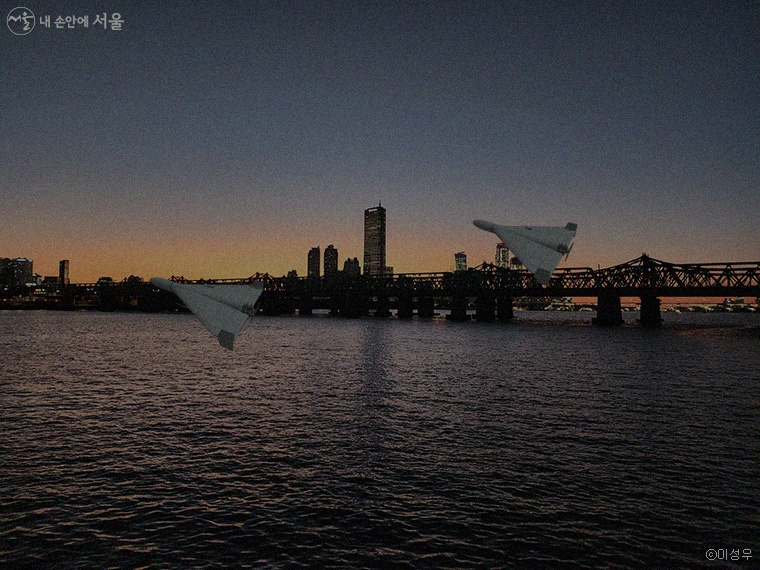shahed: (147, 274, 267, 351), (471, 216, 578, 287)
